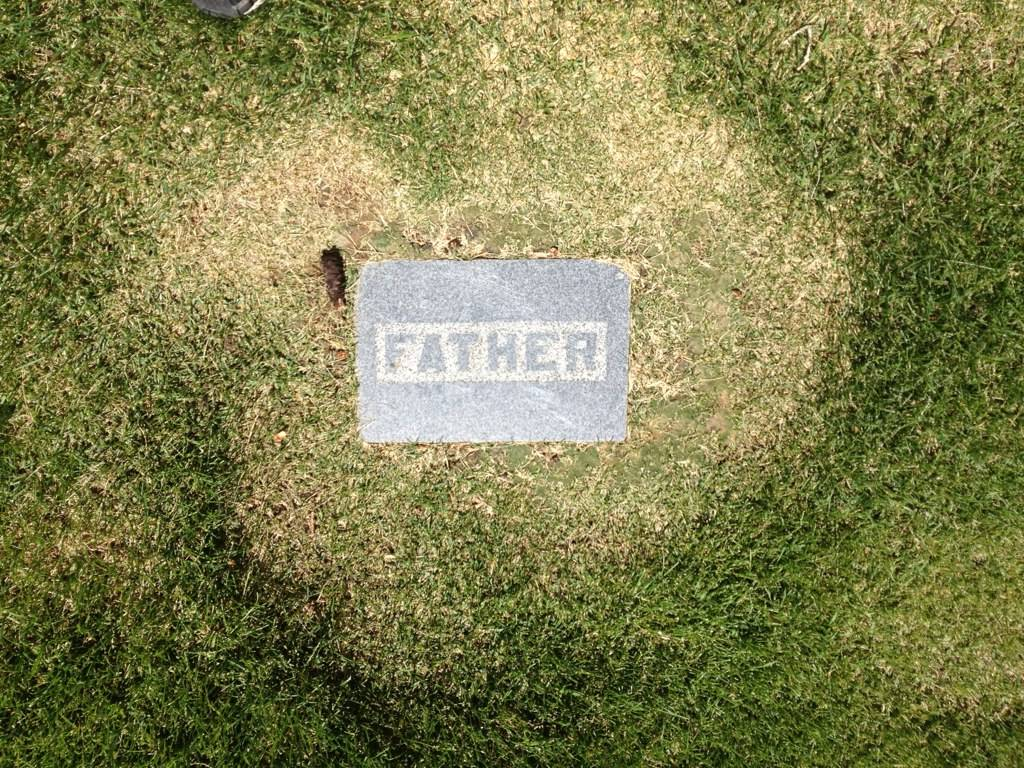flat: (351, 250, 634, 450)
